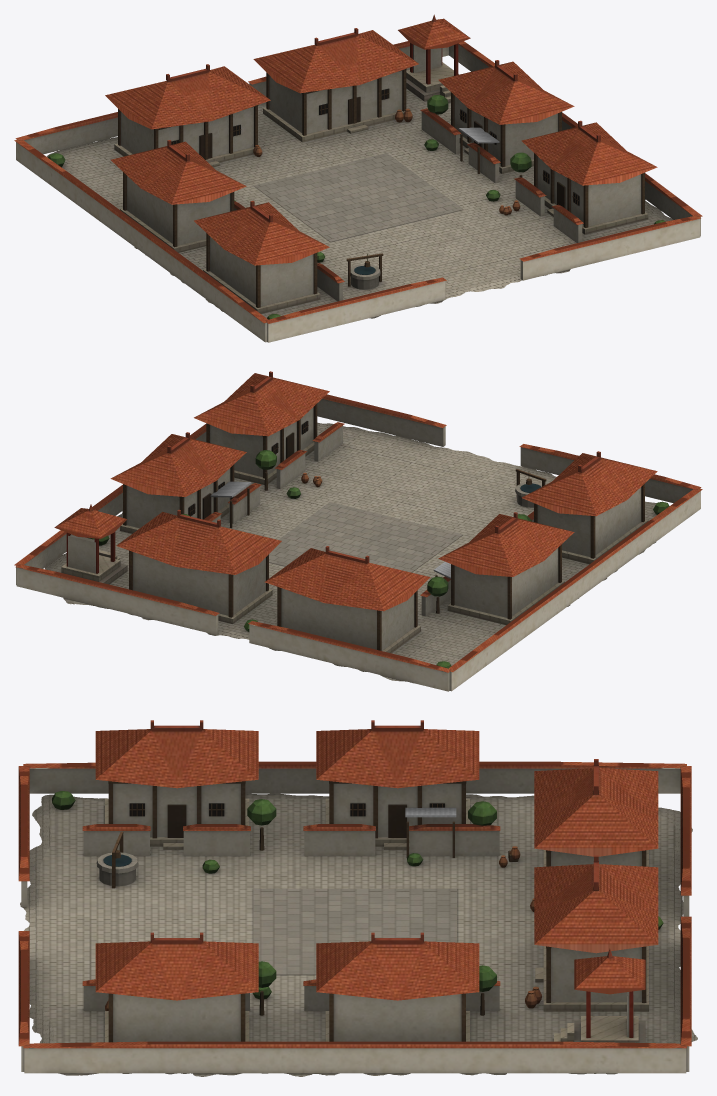
File: classical-town-small-b.glb
3 views of the same model, one above another, from view 1: azimuth 30°, elevation 25°; view 2: azimuth 150°, elevation 25°; view 3: azimuth 270°, elevation 25° (orthographic). The views are drawn at different scales.
Visible parts, largest first — view 1: LOD0; view 2: LOD0; view 3: LOD0.
Boxes of the visible parts, x1,y1,x2,y2 form: LOD0: (14, 14, 702, 342); LOD0: (14, 371, 702, 691); LOD0: (18, 720, 697, 1076).
Size of what is drawn, in the model's own units: 4.02 by 0.7314 by 4.06.
Materials: 3 (3 with a texture image).
